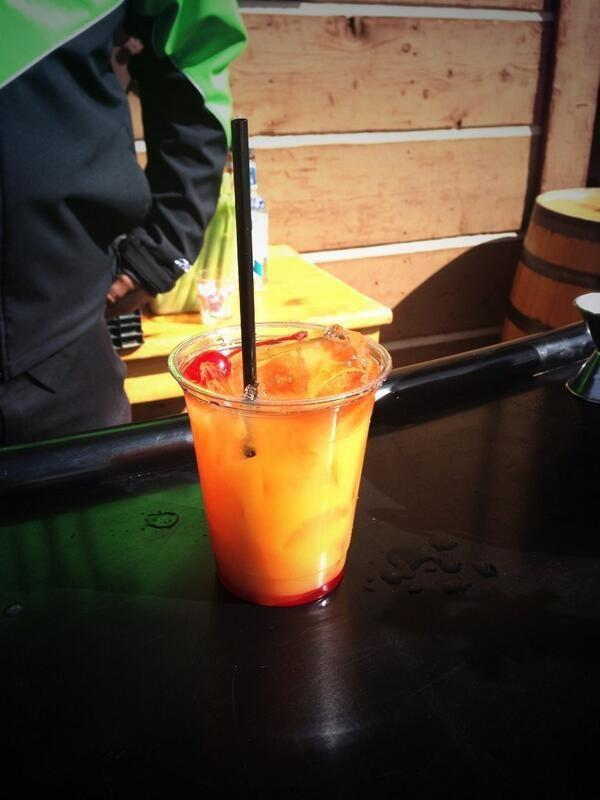cup-disposable: (164, 319, 393, 606)
